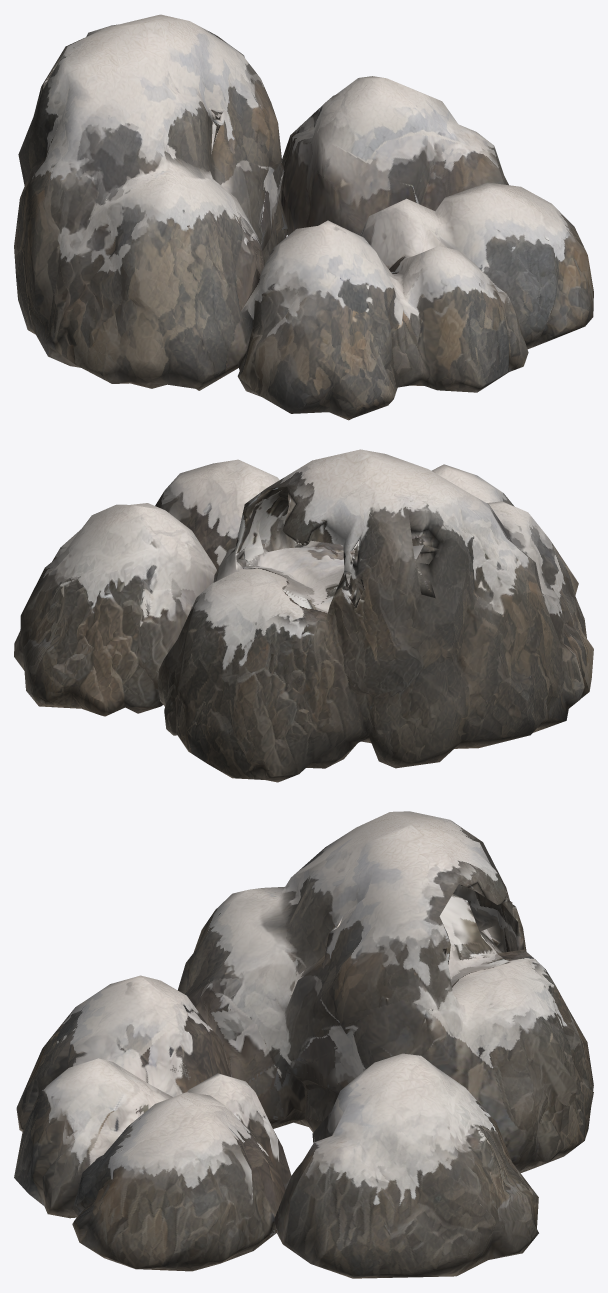
Rendered from PR_Stones_Snow.fbx.
The picture shows the model from 3 angles, top to bottom: view 1: azimuth 30°, elevation 25°; view 2: azimuth 150°, elevation 25°; view 3: azimuth 270°, elevation 25°; orthographic projection. The views are drawn at different scales.
Visible parts, largest first — view 1: texture_mapping; view 2: texture_mapping; view 3: texture_mapping.
Boxes of the visible parts, box(x1,y1,x2,y2) form: texture_mapping: box(14, 14, 593, 420); texture_mapping: box(14, 449, 593, 782); texture_mapping: box(14, 811, 593, 1278).
Bounding box in the file's own units: 1 × 0.9689 × 0.5456.
Materials: 1 (1 with a texture image).
